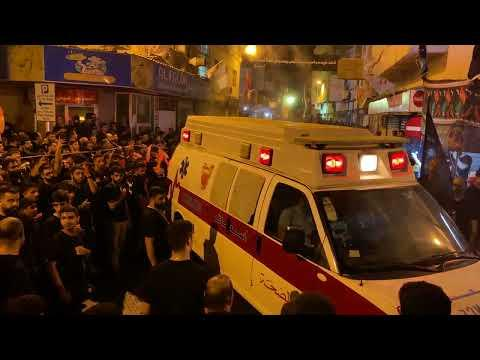ambulance_on: (168, 115, 480, 318)
